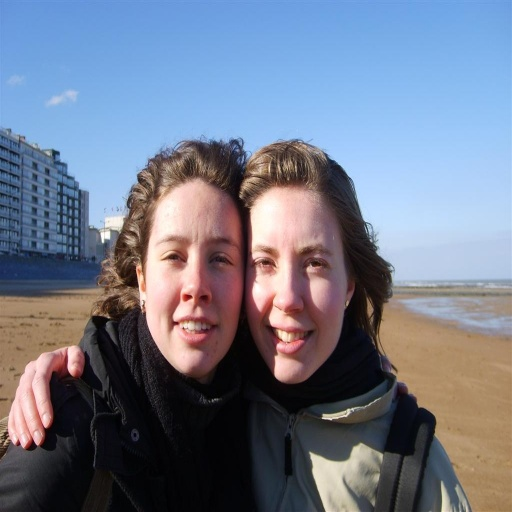hand: (6, 342, 87, 452)
